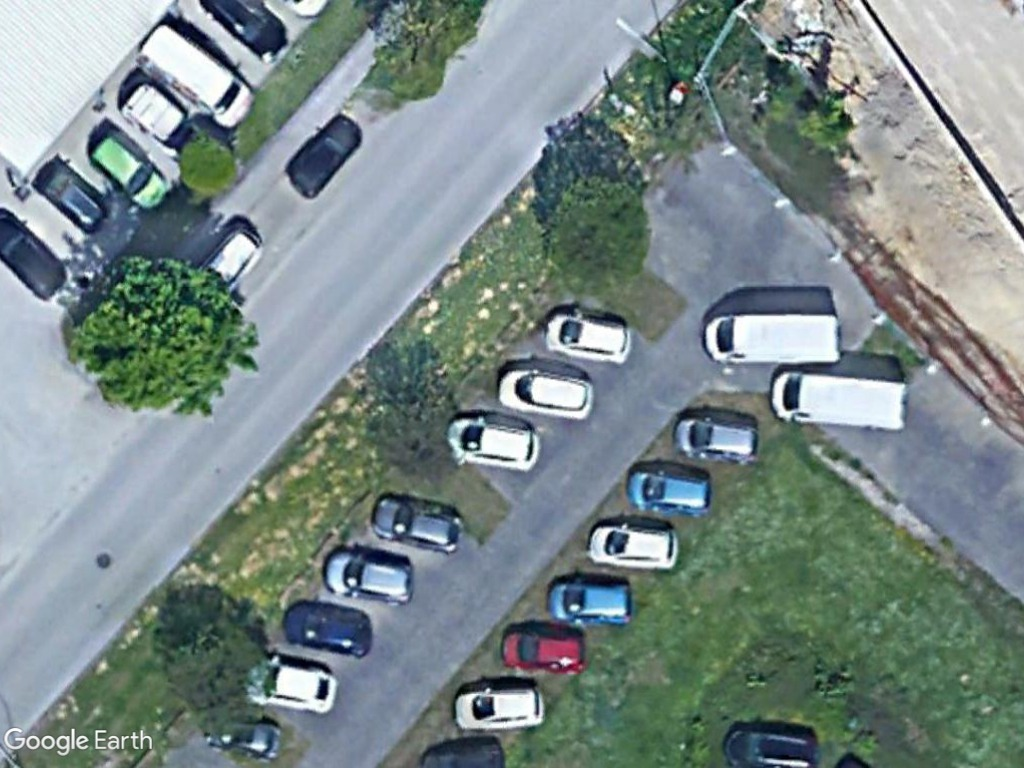car: (281, 112, 368, 201), (89, 134, 172, 213), (443, 414, 544, 477), (280, 600, 378, 663), (33, 159, 113, 235), (318, 546, 416, 608), (495, 366, 598, 423), (369, 494, 465, 555), (540, 307, 634, 367), (670, 411, 765, 468), (584, 519, 681, 574), (621, 464, 717, 519), (450, 684, 547, 735), (544, 576, 635, 629), (497, 628, 591, 675)
van: (139, 24, 259, 129), (768, 368, 913, 430), (697, 310, 849, 367)
